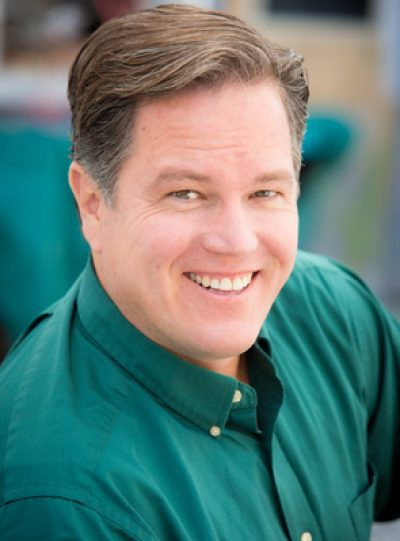bad: (117, 118, 340, 341)
